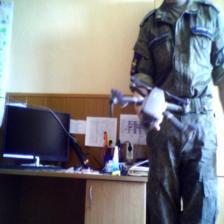drone: (109, 68, 199, 152)
